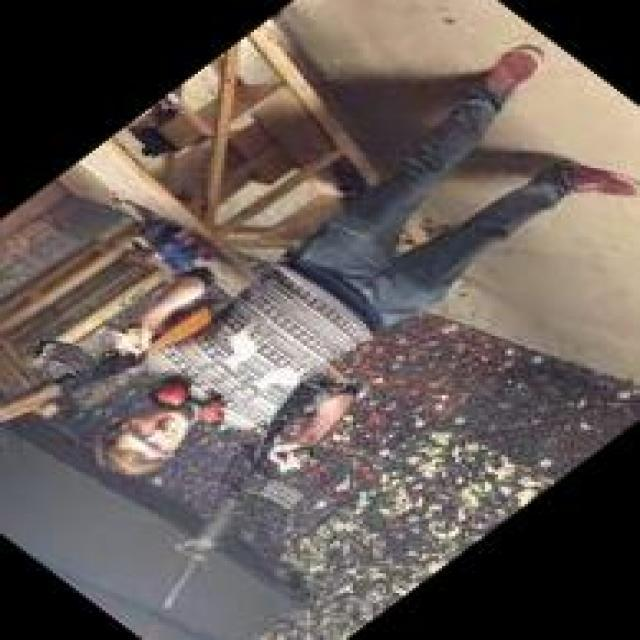weapon: (160, 378, 332, 614), (0, 305, 215, 420)
